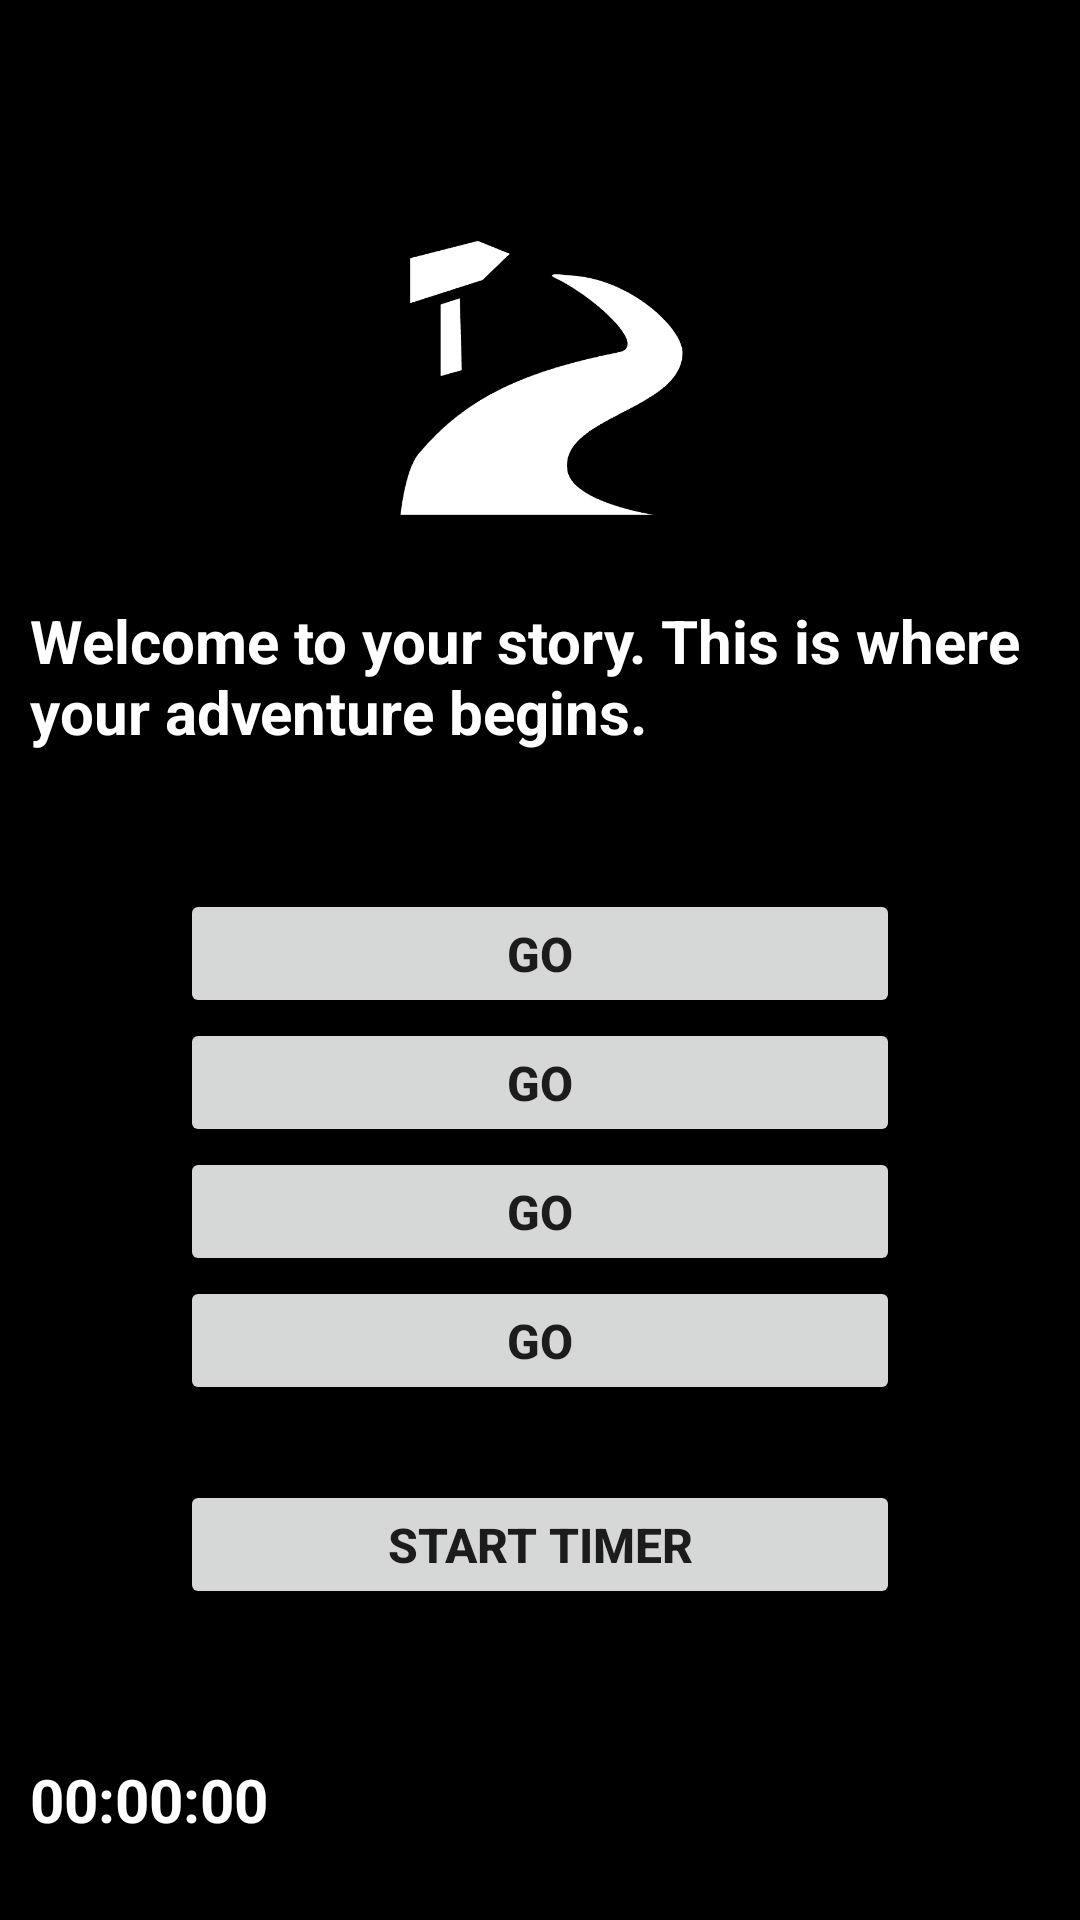

Screen size 1080x1920. Icon name, then its center in pixels as (x=x, y=y):
trail: (x=541, y=378)
